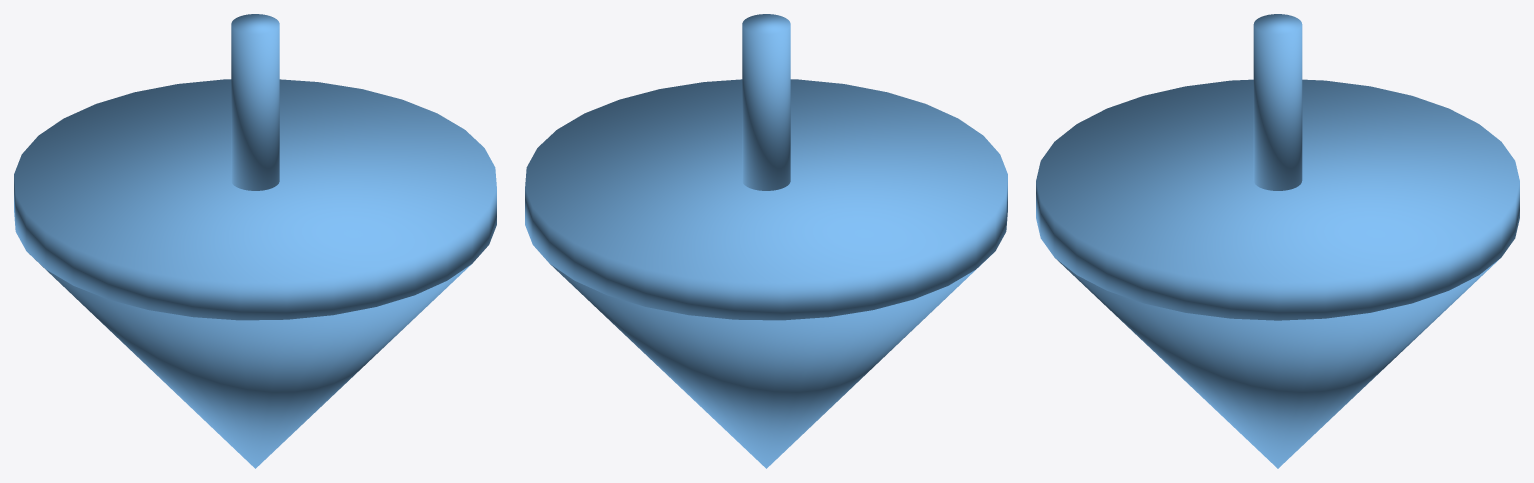
Rendered from spinning_top.glb.
The picture shows the model from 3 angles, left to right: view 1: azimuth 30°, elevation 25°; view 2: azimuth 150°, elevation 25°; view 3: azimuth 270°, elevation 25°; orthographic projection.
Visible parts, largest first — view 1: spinning_top.001; view 2: spinning_top.001; view 3: spinning_top.001.
Part boxes in pixels (x1,y1,x2,y2): spinning_top.001: (14, 14, 496, 468); spinning_top.001: (525, 14, 1007, 468); spinning_top.001: (1036, 14, 1519, 468).
Bounding box in the file's own units: 0.6901 × 0.7 × 0.6901.
